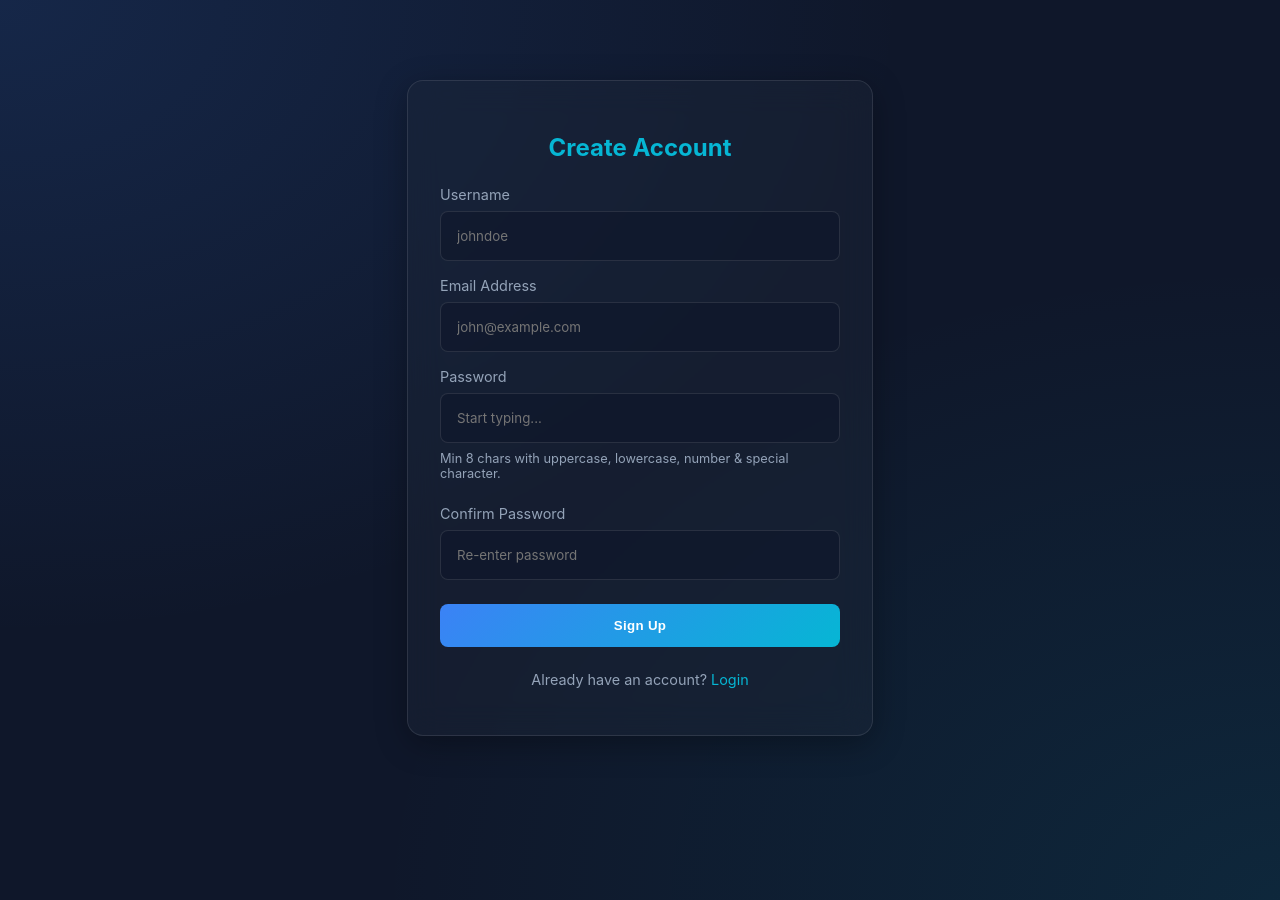
Test: Register Component › validates password length
Type "testuser" into the field with placeholder "johndoe". click: coordinates (640, 236)
box: 440,211 -> 840,261
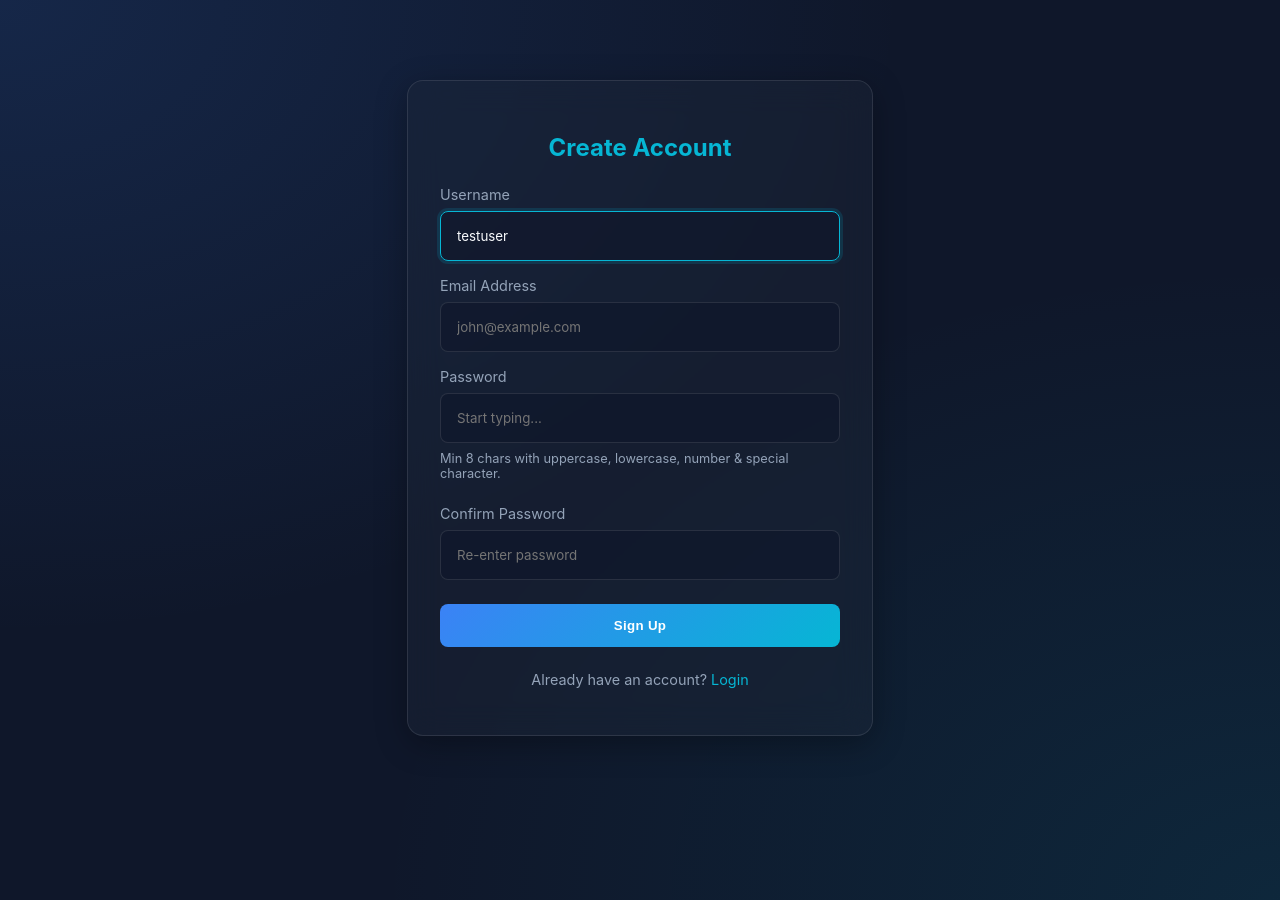
Type "test@example.com" into the field with placeholder "john@example.com". click: coordinates (640, 327)
box: 440,302 -> 840,352
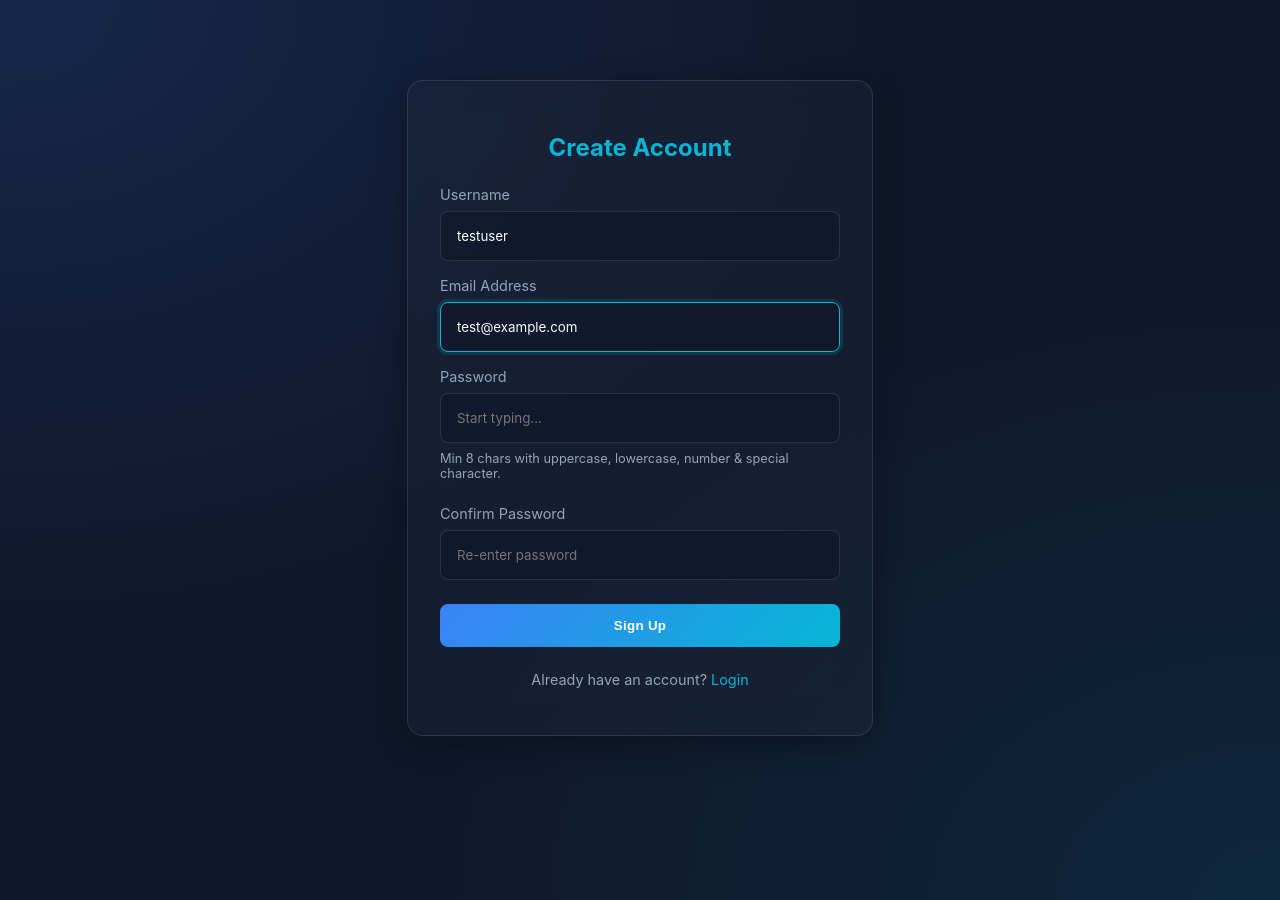
Type "Short1!" into the password field with placeholder "Start typing...". click: coordinates (640, 418)
box: 440,393 -> 840,443
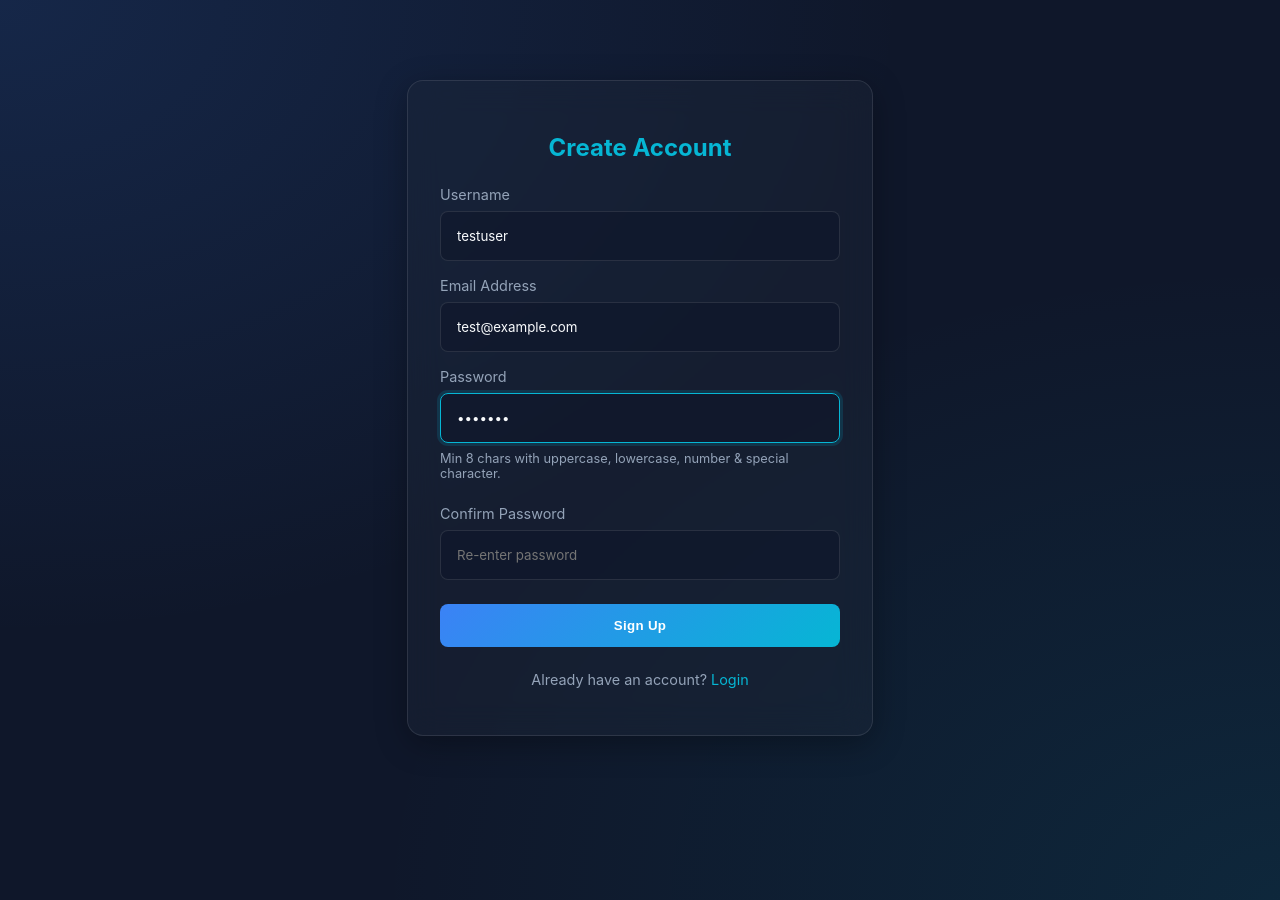
Type "Short1!" into the password field with placeholder "Re-enter password". click: coordinates (640, 555)
box: 440,530 -> 840,580
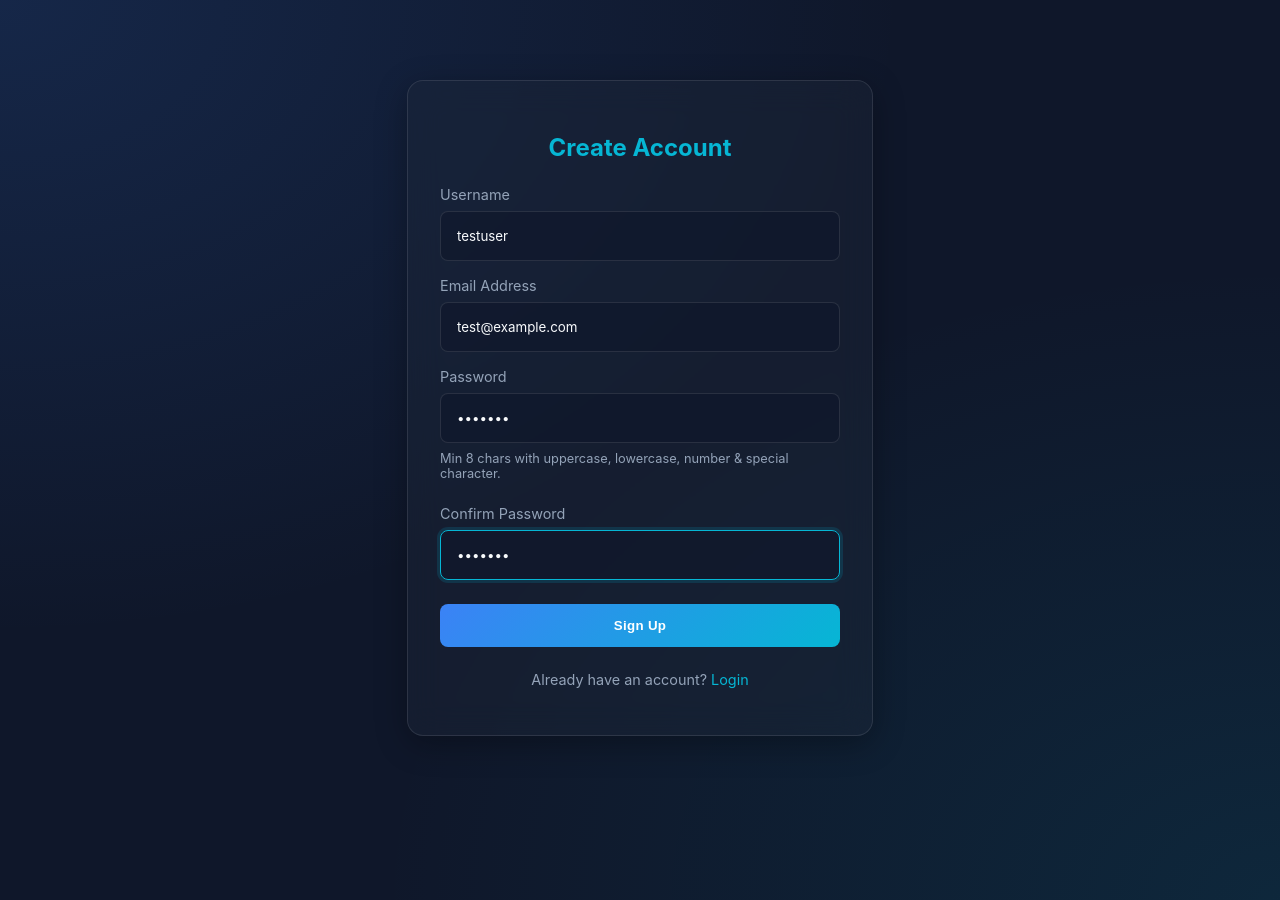
Click the button "Sign Up". click: coordinates (640, 626)
box: 440,604 -> 840,647
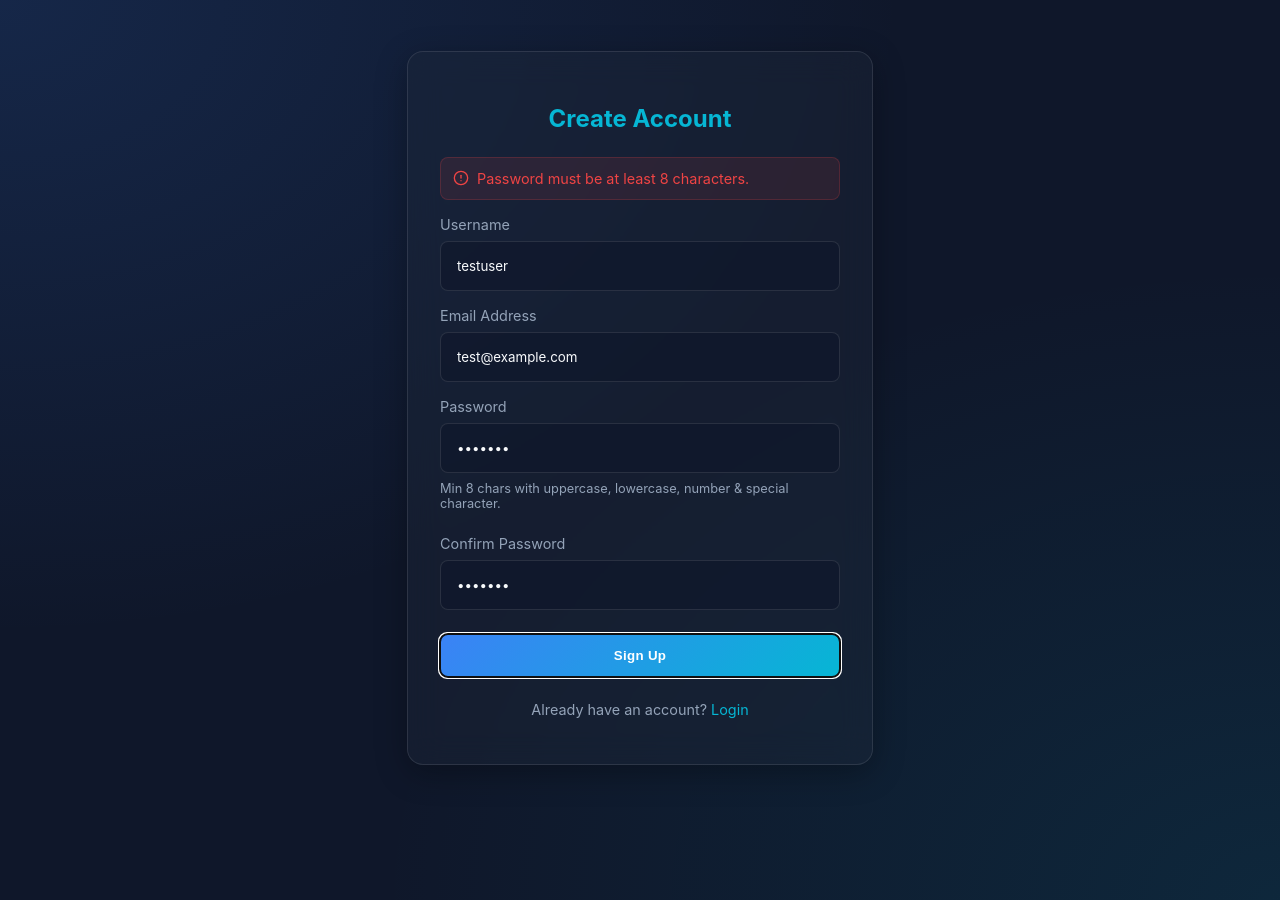
Expected: the text "Password must be at least 8 characters." is shown, 440,157 -> 840,200
